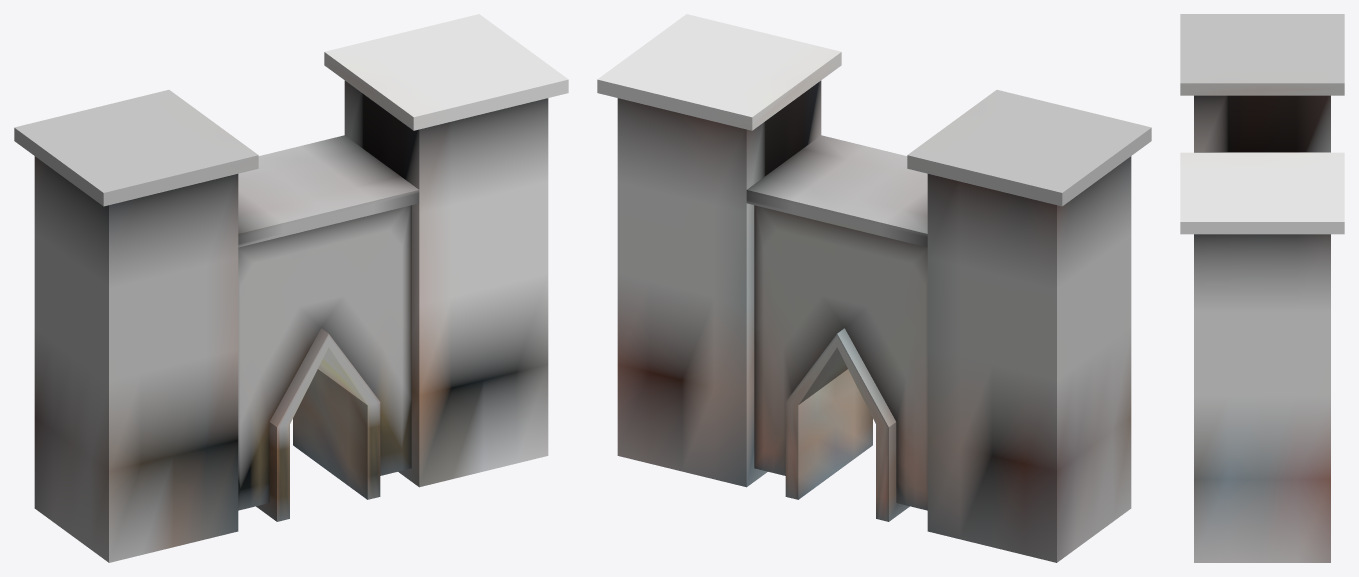
The model's file is Gate_1.obj.
3 renders of one model, left to right at view 1: azimuth 30°, elevation 25°; view 2: azimuth 150°, elevation 25°; view 3: azimuth 270°, elevation 25°, orthographic. The views are drawn at different scales.
Parts seen in each view (by area): view 1: Cube.002, Cube.001, Cube, Cube.004, Cube.003, Cube.006, Cube.005; view 2: Cube.002, Cube.001, Cube, Cube.004, Cube.003, Cube.006, Cube.005; view 3: Cube.001, Cube.003, Cube.004, Cube.002.
Part boxes in pixels (left/top/right/bottom): Cube.002: left=34, top=156, right=238, bottom=562; Cube.001: left=344, top=80, right=548, bottom=487; Cube: left=238, top=205, right=411, bottom=510; Cube.004: left=14, top=90, right=258, bottom=206; Cube.003: left=324, top=14, right=568, bottom=130; Cube.006: left=256, top=328, right=380, bottom=521; Cube.005: left=238, top=135, right=419, bottom=247; Cube.002: left=927, top=156, right=1131, bottom=562; Cube.001: left=617, top=80, right=821, bottom=487; Cube: left=754, top=205, right=927, bottom=510; Cube.004: left=907, top=90, right=1151, bottom=206; Cube.003: left=597, top=14, right=841, bottom=130; Cube.006: left=785, top=328, right=909, bottom=521; Cube.005: left=746, top=135, right=927, bottom=247; Cube.001: left=1194, top=234, right=1330, bottom=562; Cube.003: left=1180, top=152, right=1344, bottom=234; Cube.004: left=1180, top=14, right=1344, bottom=95; Cube.002: left=1194, top=95, right=1330, bottom=151.
Size of the model in its own units: 36 by 28 by 12.
